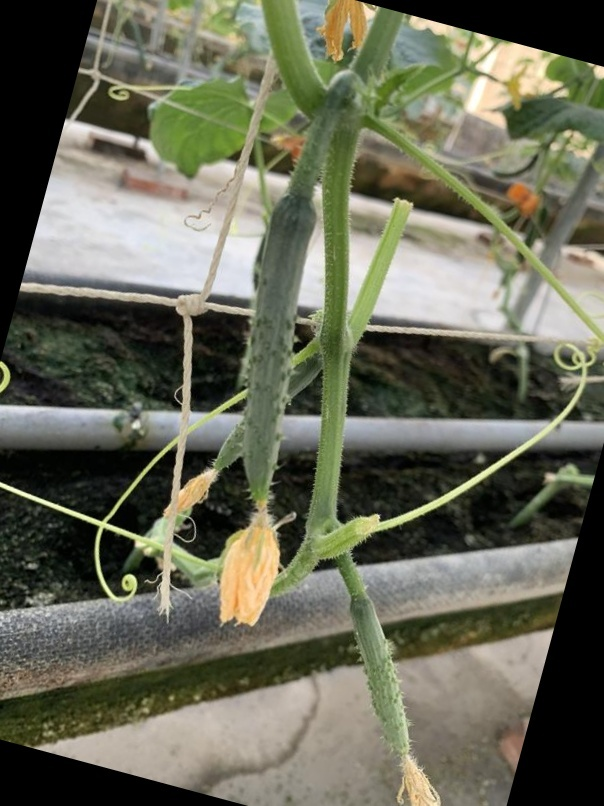bear: (332, 590, 542, 806), (232, 195, 330, 615)
